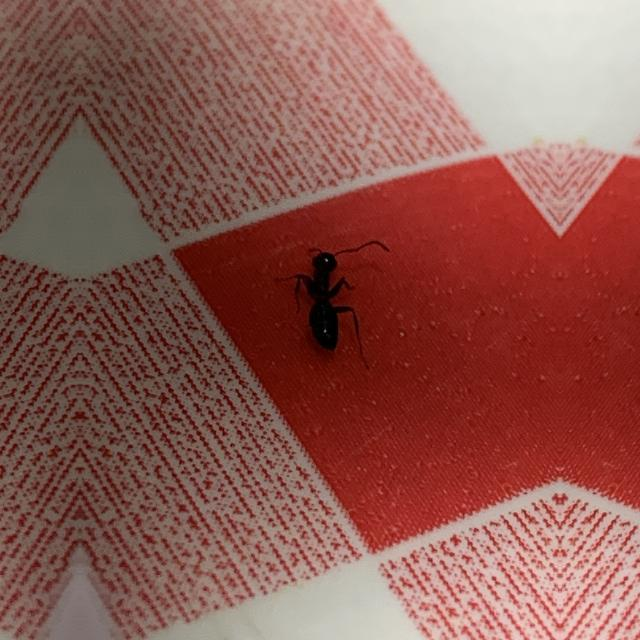Camponotus: (290, 233, 362, 354)
